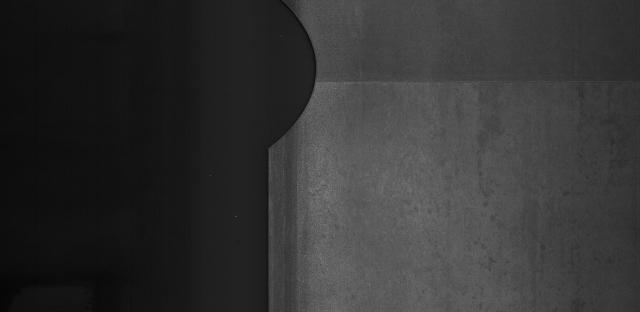welding_line: (311, 69, 640, 92)
